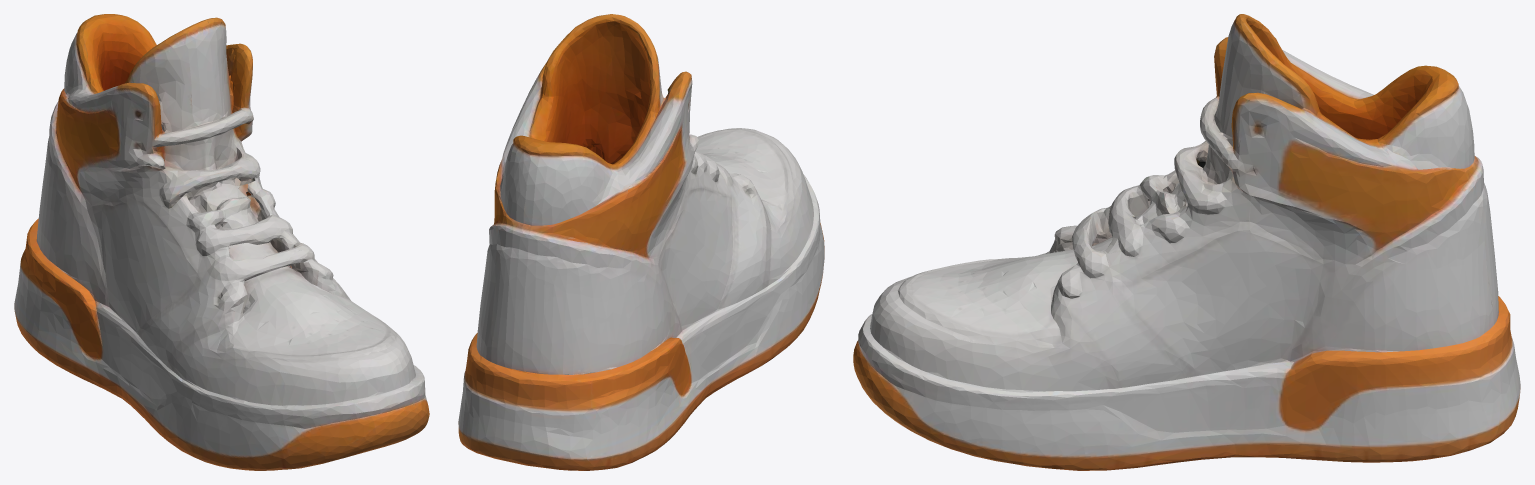
The model's file is court-high.glb.
3 renders of one model, left to right at view 1: azimuth 30°, elevation 25°; view 2: azimuth 150°, elevation 25°; view 3: azimuth 270°, elevation 25°, orthographic. The views are drawn at different scales.
Parts seen in each view (by area): view 1: geometry_0; view 2: geometry_0; view 3: geometry_0.
Part boxes in pixels (bbox=[...]): geometry_0: bbox=[14, 14, 429, 470]; geometry_0: bbox=[458, 14, 824, 470]; geometry_0: bbox=[853, 14, 1520, 470].
Size of the model in its own units: 0.3952 by 0.6756 by 0.9982.
1 material, 1 textured.
